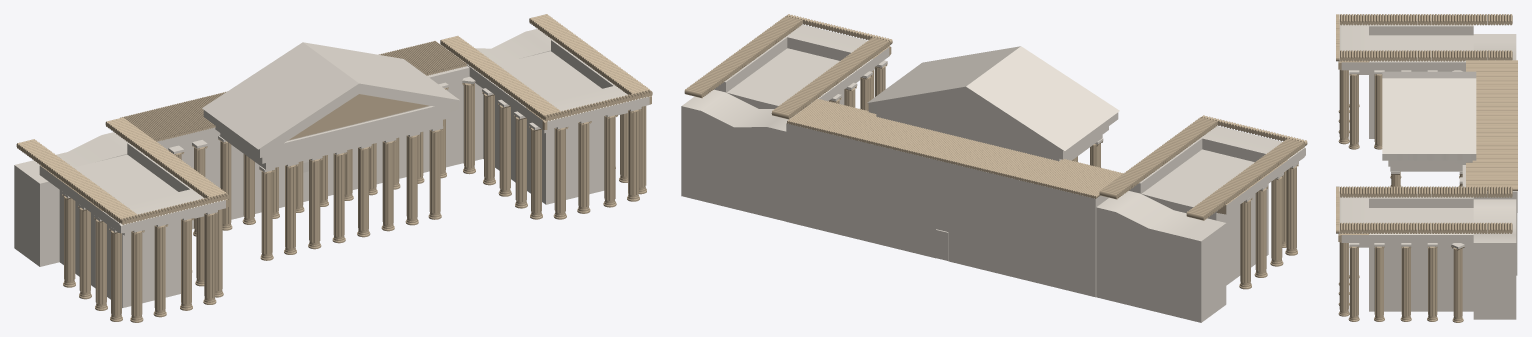
Rendered from british_museum.fbx.
The picture shows the model from 3 angles, left to right: view 1: azimuth 30°, elevation 25°; view 2: azimuth 150°, elevation 25°; view 3: azimuth 270°, elevation 25°; orthographic projection. The views are drawn at different scales.
Parts seen in each view (by area): view 1: museum; view 2: museum; view 3: museum.
Part boxes in pixels (x1,y1,x2,y2): museum: (14, 14, 652, 322); museum: (681, 14, 1307, 322); museum: (1336, 14, 1517, 322).
Bounding box in the file's own units: 381 × 108 × 133.
